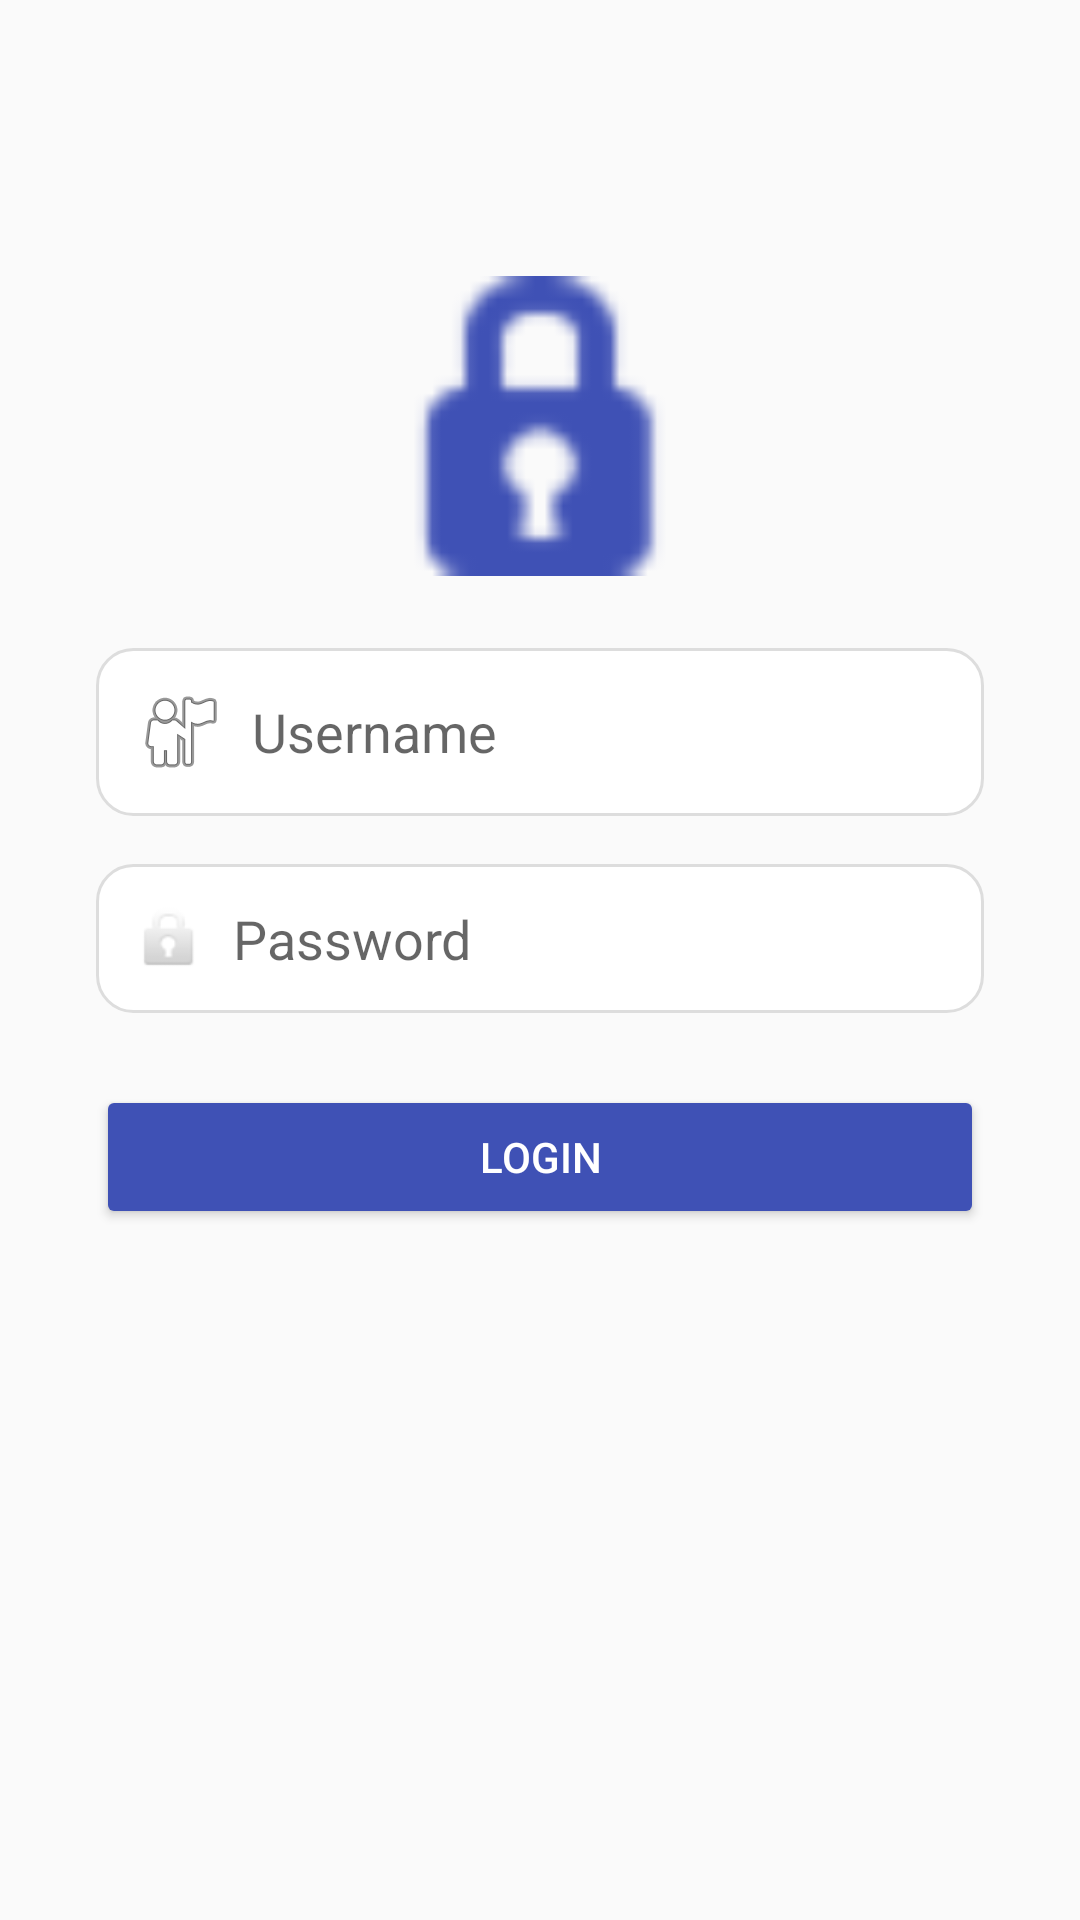

Locate icon controls on the screen. Image size 1080x1920, boxes as box(x1, y1, x2, y2).
secure: box(422, 276, 656, 576)
